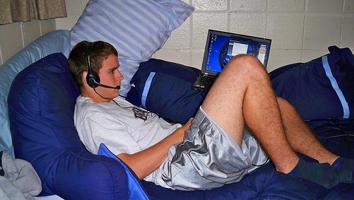person: (66, 40, 353, 192)
